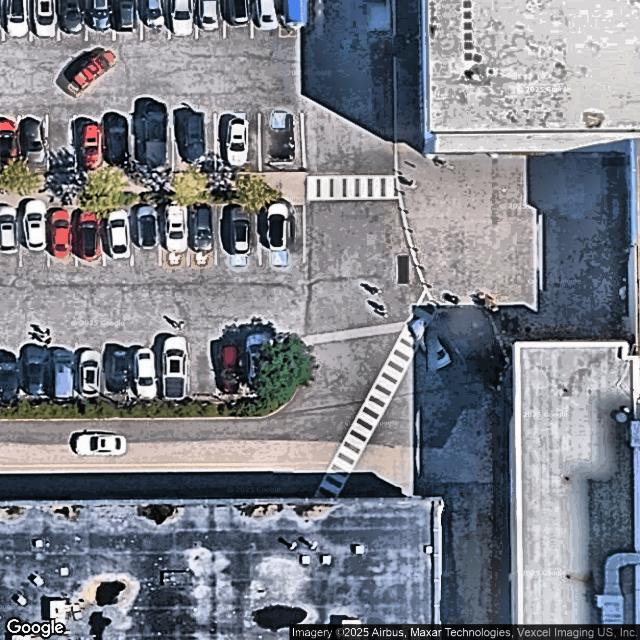car: (137, 100, 169, 168), (222, 204, 253, 255), (215, 338, 243, 393), (248, 335, 274, 393), (180, 105, 205, 162), (18, 117, 45, 169), (164, 338, 186, 398), (263, 204, 291, 250), (226, 115, 251, 165), (191, 202, 215, 252), (107, 344, 131, 393), (107, 208, 130, 259), (26, 198, 47, 252), (54, 346, 75, 399), (23, 343, 45, 393), (79, 206, 98, 262), (106, 113, 126, 166), (79, 121, 101, 169), (136, 347, 157, 397), (51, 206, 71, 258), (165, 205, 187, 250), (81, 346, 100, 398), (136, 207, 157, 251), (34, 2, 58, 38), (0, 118, 17, 168), (60, 3, 86, 35), (2, 205, 18, 255), (2, 349, 18, 399), (6, 3, 29, 37), (89, 2, 115, 32), (254, 0, 279, 29), (141, 0, 165, 29), (173, 0, 193, 34), (226, 1, 250, 27), (200, 1, 220, 31), (116, 3, 137, 31)
lot_boundary: (1, 1, 306, 422)
objects: (0, 352, 304, 419), (0, 171, 306, 204), (281, 0, 305, 35)
stall: (255, 205, 305, 266), (214, 114, 260, 173), (128, 117, 172, 173), (170, 116, 214, 171), (260, 113, 302, 169), (215, 206, 255, 264), (212, 337, 246, 399), (102, 339, 135, 401), (99, 208, 133, 268), (20, 341, 52, 402), (247, 336, 280, 395), (71, 116, 105, 173), (73, 205, 102, 268), (130, 209, 160, 269), (21, 203, 49, 267), (160, 207, 190, 266), (158, 338, 188, 397), (99, 117, 130, 174), (16, 116, 47, 172), (134, 339, 162, 399), (46, 115, 73, 175), (49, 206, 75, 268), (187, 337, 213, 397), (190, 207, 216, 266), (76, 339, 102, 398), (52, 340, 76, 400), (0, 340, 20, 400), (0, 204, 19, 267), (57, 0, 86, 39), (85, 0, 114, 39), (4, 0, 32, 39), (0, 116, 19, 172), (142, 0, 170, 38), (114, 1, 142, 38), (170, 1, 198, 37), (197, 0, 225, 36), (33, 0, 58, 40), (252, 0, 280, 35), (226, 0, 252, 36)
